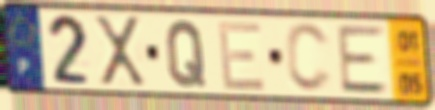2: (44, 11, 96, 89)
C: (283, 20, 335, 96)
E: (334, 24, 392, 96), (215, 19, 269, 93)
Q: (164, 18, 208, 90)
X: (91, 14, 149, 89)
